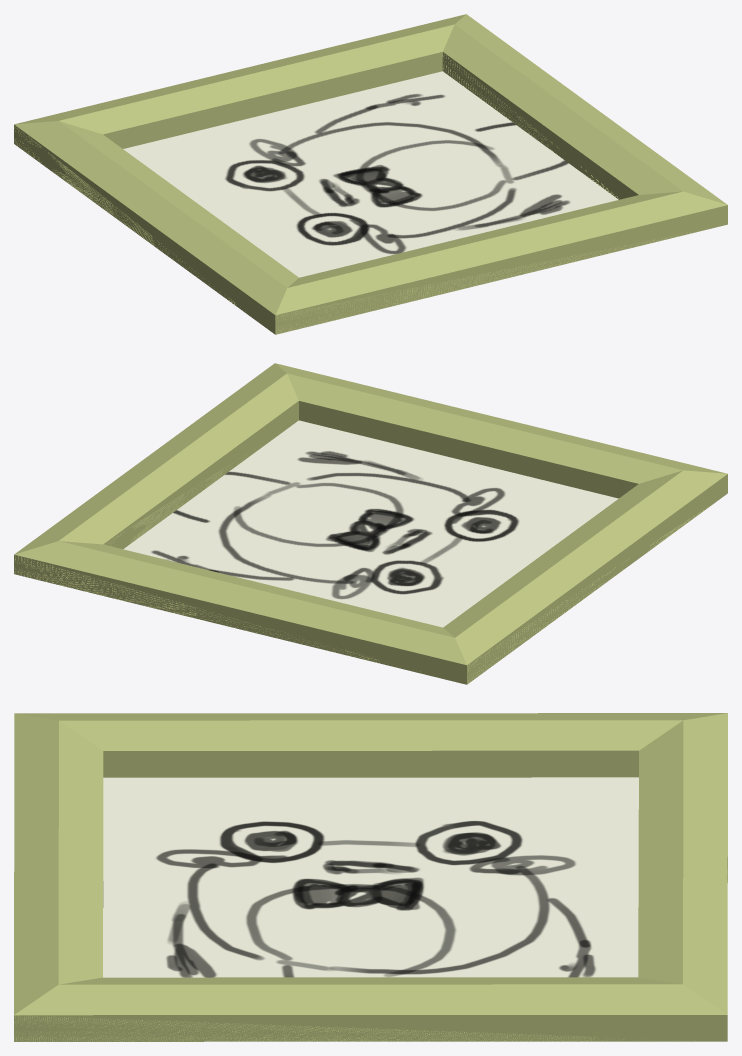
File: にがおえ.fbx
The picture shows the model from 3 angles, top to bottom: view 1: azimuth 30°, elevation 25°; view 2: azimuth 150°, elevation 25°; view 3: azimuth 270°, elevation 25°; orthographic projection. The views are drawn at different scales.
Parts seen in each view (by area): view 1: 額; view 2: 額; view 3: 額.
Boxes of the visible parts, box(x1,y1,x2,y2) form: 額: box(14, 14, 727, 334); 額: box(14, 363, 727, 684); 額: box(14, 713, 727, 1041).
Size of the model in its own units: 13.18 by 0.7801 by 13.16.
